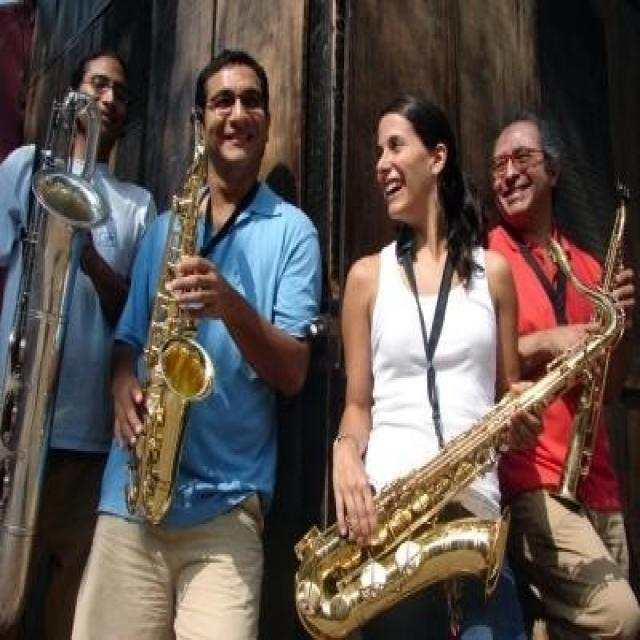saxophone: (289, 238, 627, 633), (124, 106, 222, 523)
